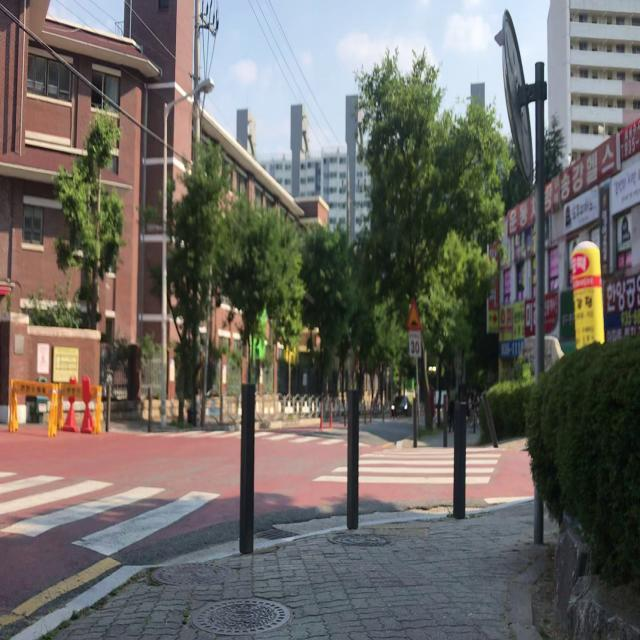횡단보도: (0, 470, 222, 558), (312, 446, 506, 486), (155, 424, 358, 447)
